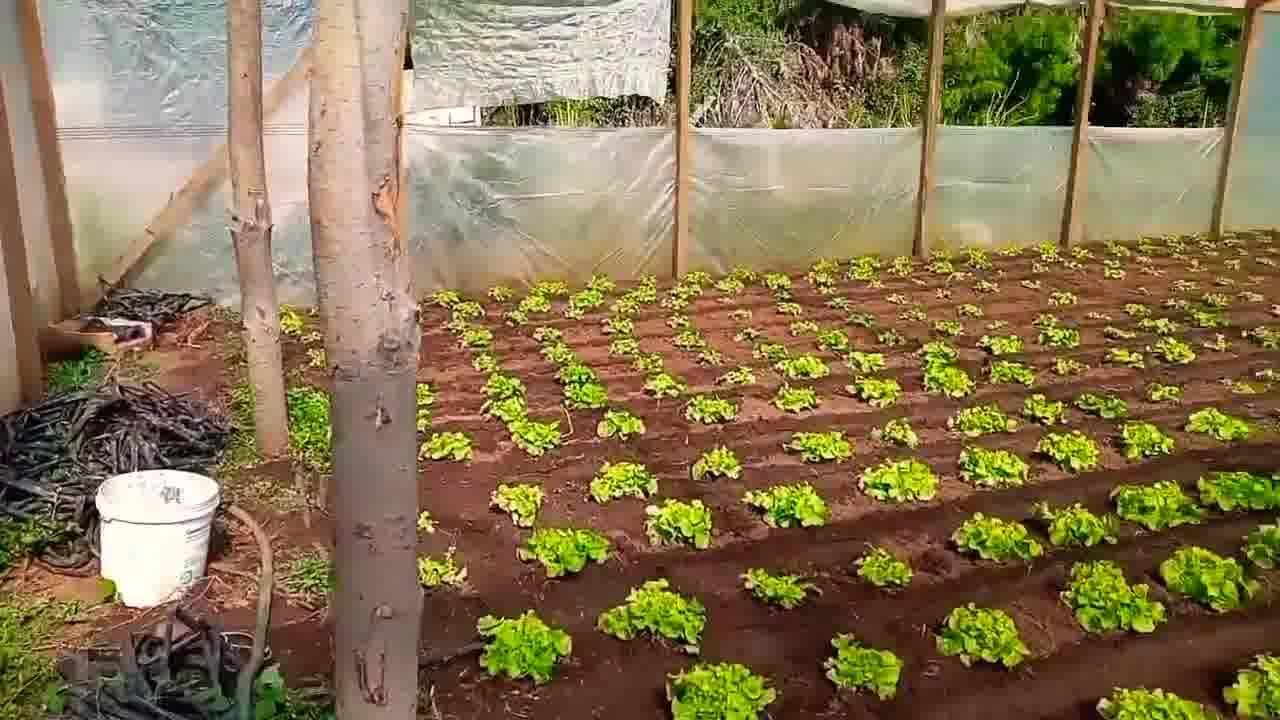healthy: (1065, 560, 1167, 636), (1157, 546, 1265, 617), (592, 580, 709, 644), (474, 607, 573, 681), (665, 665, 777, 720), (824, 626, 905, 701), (942, 606, 1029, 666), (1115, 484, 1209, 538), (952, 516, 1045, 566), (528, 524, 617, 576), (741, 483, 831, 530), (858, 453, 942, 503), (647, 499, 713, 553), (1035, 505, 1114, 548), (1192, 474, 1279, 513), (591, 460, 660, 506), (961, 445, 1032, 487), (1036, 433, 1100, 475), (1111, 421, 1176, 462), (1185, 408, 1256, 443), (855, 545, 915, 586), (490, 483, 545, 527), (502, 415, 562, 455), (920, 361, 971, 402), (693, 445, 741, 482), (418, 432, 475, 462), (956, 407, 1012, 437), (1075, 388, 1126, 418), (852, 376, 903, 405), (683, 394, 736, 421), (798, 433, 849, 461), (594, 410, 640, 440), (986, 358, 1035, 386), (1156, 336, 1203, 365), (1022, 397, 1068, 425), (774, 385, 819, 413), (779, 357, 831, 380), (643, 372, 683, 399), (850, 255, 877, 282)
